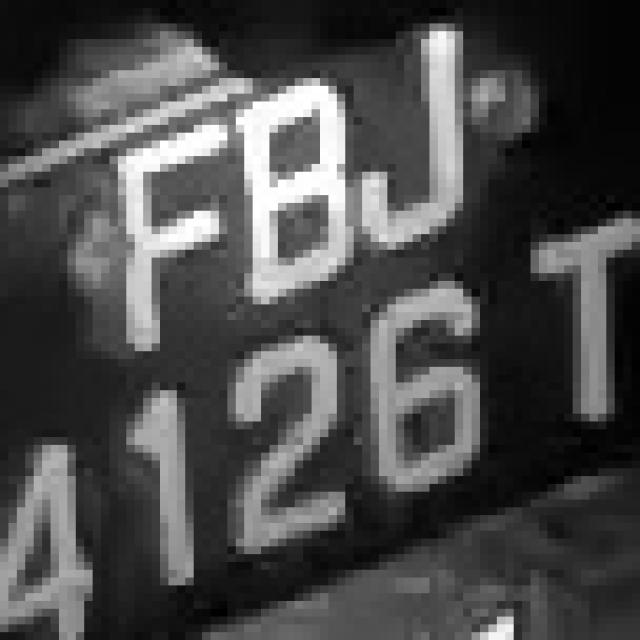1: (126, 343, 202, 601)
2: (194, 351, 354, 593)
4: (0, 414, 118, 632)
6: (354, 257, 480, 523)
B: (219, 62, 379, 312)
F: (101, 125, 219, 375)
J: (354, 23, 488, 242)
T: (6, 2, 8, 6)
